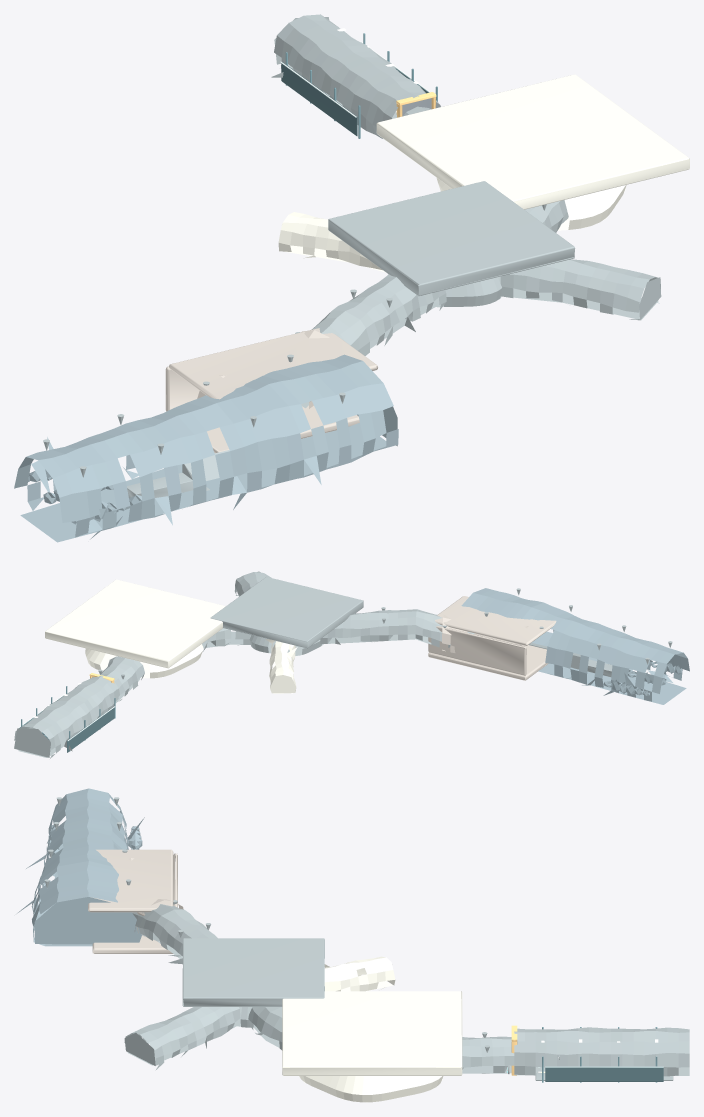
File: cave-low.glb
3 renders of one model, top to bottom at view 1: azimuth 30°, elevation 25°; view 2: azimuth 150°, elevation 25°; view 3: azimuth 270°, elevation 25°, orthographic. The views are drawn at different scales.
Visible parts, largest first — view 1: UN_Boat_Cavern, UN_Hall_Roof_Shield, UN_Junction_Roof_Shield, UN_Station_Approach, UN_Tide_Alcove, UN_Landing_Roof, UN_Descent, UN_Salt_Fissure, UN_Underneath_Hall, UN_Station_Wall_Panel_Left, UN_Four_Way_Junction, UN_Sheltered_Landing (+1 smaller); view 2: UN_Hall_Roof_Shield, UN_Boat_Cavern, UN_Junction_Roof_Shield, UN_Station_Approach, UN_Descent, UN_Landing_Roof, UN_Landing_South_Wall, UN_Salt_Fissure, UN_Underneath_Hall, UN_Sheltered_Landing, UN_Final_Corridor, UN_Basalt_Gallery (+4 smaller); view 3: UN_Hall_Roof_Shield, UN_Boat_Cavern, UN_Junction_Roof_Shield, UN_Station_Approach, UN_Landing_Roof, UN_Tide_Alcove, UN_Underneath_Hall, UN_Descent, UN_Salt_Fissure, UN_Station_Wall_Panel_Right, UN_Final_Corridor, UN_Basalt_Gallery (+1 smaller).
Boxes of the visible parts, x1=… form: UN_Boat_Cavern: x1=14, y1=354, x2=398, y2=542; UN_Hall_Roof_Shield: x1=376, y1=74, x2=689, y2=209; UN_Junction_Roof_Shield: x1=328, y1=181, x2=575, y2=296; UN_Station_Approach: x1=271, y1=14, x2=440, y2=140; UN_Tide_Alcove: x1=500, y1=259, x2=661, y2=320; UN_Landing_Roof: x1=169, y1=328, x2=377, y2=399; UN_Descent: x1=301, y1=274, x2=446, y2=408; UN_Salt_Fissure: x1=278, y1=212, x2=385, y2=272; UN_Underneath_Hall: x1=436, y1=178, x2=626, y2=230; UN_Station_Wall_Panel_Left: x1=281, y1=62, x2=357, y2=136; UN_Four_Way_Junction: x1=434, y1=276, x2=502, y2=307; UN_Sheltered_Landing: x1=207, y1=405, x2=359, y2=453; UN_Hall_Roof_Shield: x1=45, y1=579, x2=225, y2=668; UN_Boat_Cavern: x1=461, y1=588, x2=689, y2=704; UN_Junction_Roof_Shield: x1=210, y1=577, x2=363, y2=648; UN_Station_Approach: x1=14, y1=675, x2=118, y2=758; UN_Descent: x1=320, y1=609, x2=474, y2=647; UN_Landing_Roof: x1=435, y1=596, x2=556, y2=645; UN_Landing_South_Wall: x1=428, y1=626, x2=526, y2=675; UN_Salt_Fissure: x1=265, y1=639, x2=297, y2=693; UN_Underneath_Hall: x1=85, y1=644, x2=203, y2=678; UN_Sheltered_Landing: x1=428, y1=645, x2=548, y2=680; UN_Final_Corridor: x1=101, y1=656, x2=144, y2=702; UN_Basalt_Gallery: x1=202, y1=628, x2=251, y2=651; UN_Hall_Roof_Shield: x1=282, y1=991, x2=462, y2=1075; UN_Boat_Cavern: x1=17, y1=788, x2=144, y2=946; UN_Junction_Roof_Shield: x1=182, y1=938, x2=324, y2=1006; UN_Station_Approach: x1=514, y1=1027, x2=689, y2=1076; UN_Landing_Roof: x1=88, y1=849, x2=173, y2=912; UN_Tide_Alcove: x1=124, y1=1007, x2=240, y2=1070; UN_Underneath_Hall: x1=299, y1=1076, x2=443, y2=1102; UN_Descent: x1=132, y1=904, x2=217, y2=964; UN_Salt_Fissure: x1=324, y1=956, x2=395, y2=991; UN_Station_Wall_Panel_Right: x1=545, y1=1066, x2=663, y2=1081; UN_Final_Corridor: x1=462, y1=1036, x2=514, y2=1073; UN_Basalt_Gallery: x1=248, y1=1007, x2=282, y2=1050.
Bounding box in the file's own units: 148 × 17.11 × 143.
